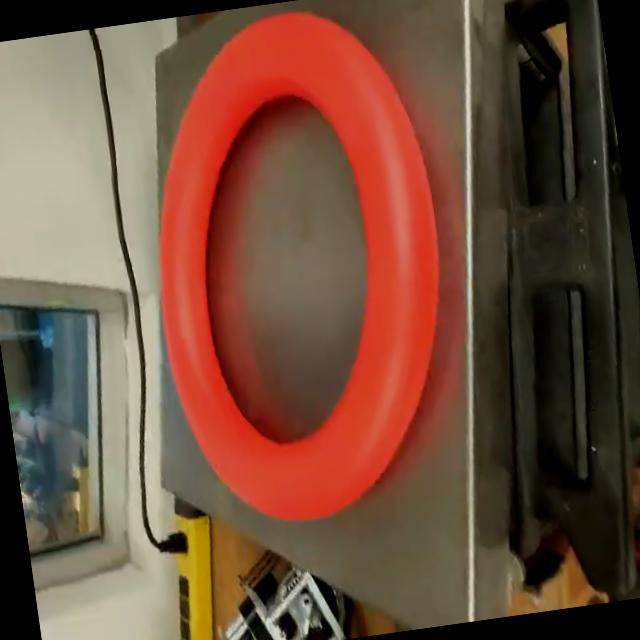note: (119, 0, 479, 541)
